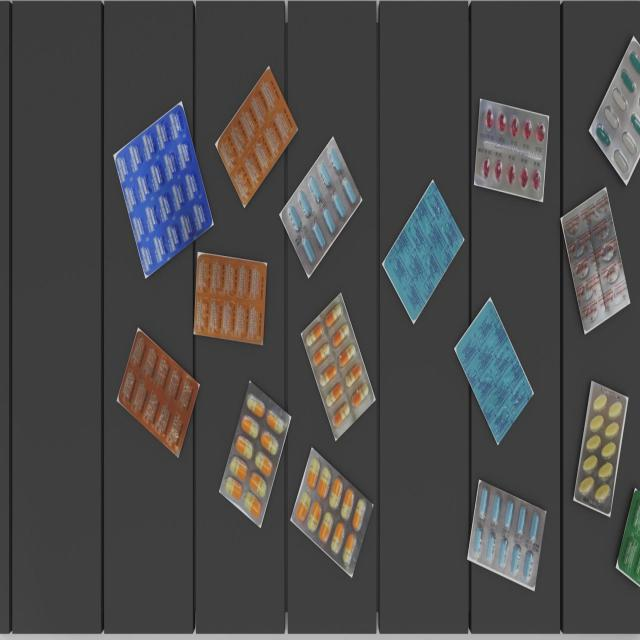blister: (113, 105, 215, 274), (383, 176, 464, 327), (280, 131, 362, 274), (455, 296, 533, 446), (215, 70, 296, 206), (290, 443, 372, 575), (302, 297, 374, 440), (563, 182, 630, 335), (117, 331, 199, 456), (220, 381, 289, 524), (468, 484, 546, 588), (475, 97, 548, 202), (590, 38, 640, 180), (193, 253, 268, 347), (574, 381, 627, 513)
